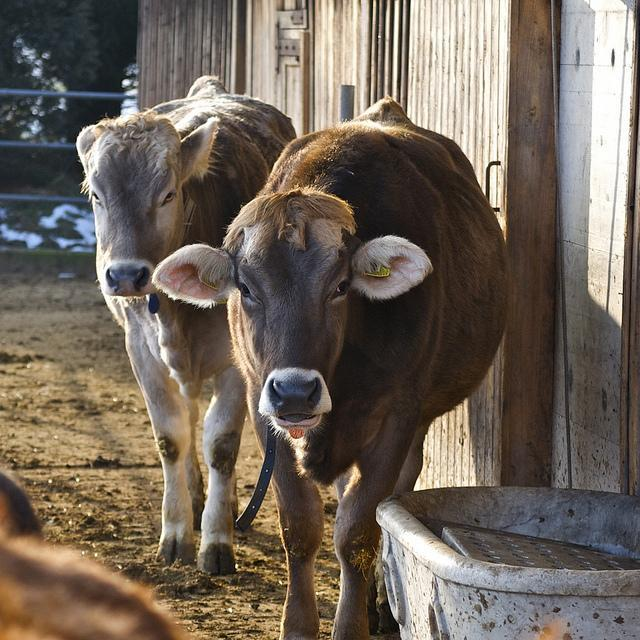cow: (148, 92, 515, 631), (73, 75, 296, 573), (0, 462, 185, 628)
